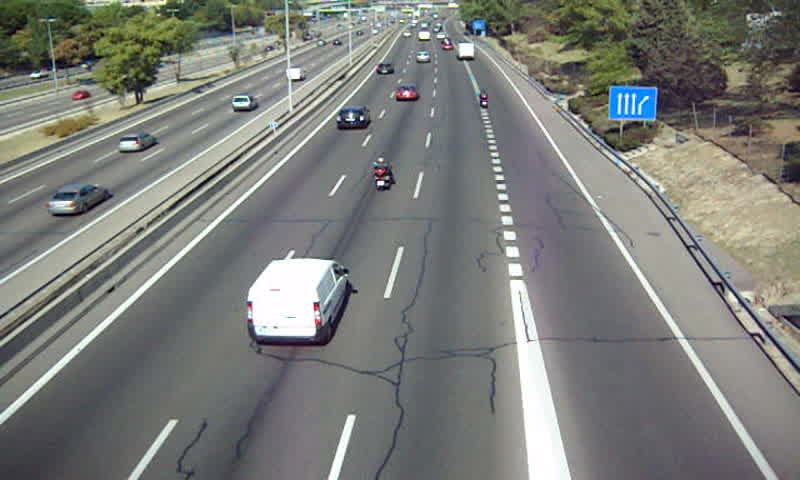car: (333, 107, 371, 131), (394, 85, 418, 101), (375, 62, 394, 75), (414, 50, 430, 64)
motorcycle: (370, 156, 392, 192), (478, 89, 488, 110)
van: (246, 258, 349, 347), (457, 42, 476, 60)
